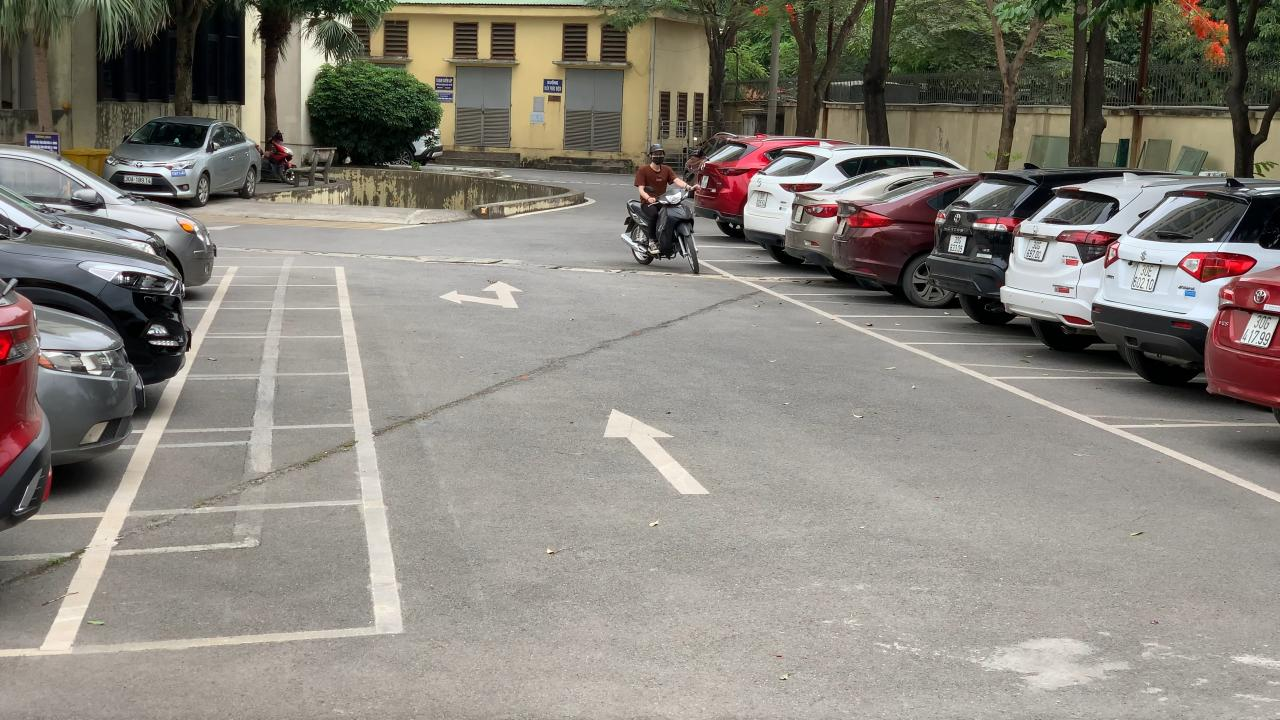helmet: (648, 144, 666, 155)
motorcyclist: (620, 145, 700, 274)
